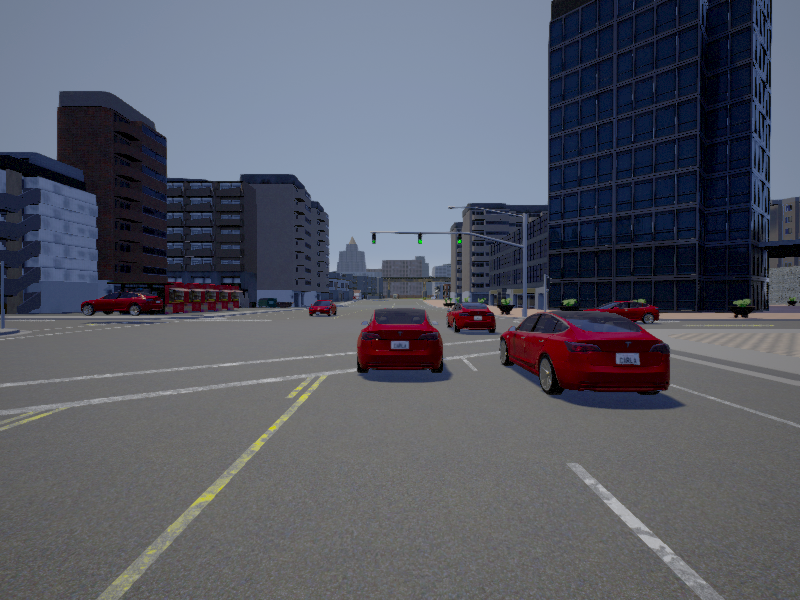Attacker: (81, 291, 162, 318)
Benign: (499, 312, 670, 394), (357, 309, 445, 374), (585, 298, 659, 323), (445, 302, 496, 333), (308, 299, 337, 317)
